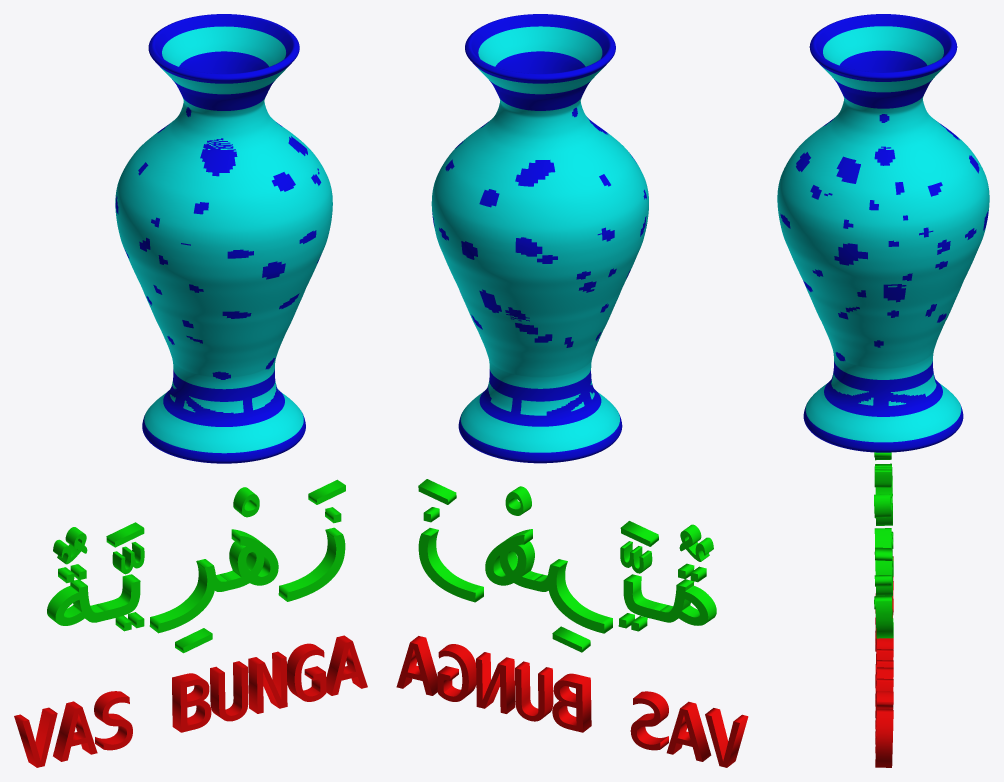
Rendered from vase.fbx.
3 renders of one model, left to right at view 1: azimuth 30°, elevation 25°; view 2: azimuth 150°, elevation 25°; view 3: azimuth 270°, elevation 25°, orthographic. The views are drawn at different scales.
Visible parts, largest first — view 1: Circle, Teks.006, Text, Teks.005, Teks.003, Teks.001; view 2: Circle, Teks.006, Text, Teks.005, Teks.003, Teks.001; view 3: Circle, Teks.006, Text, Teks.001, Teks.003.
Part boxes in pixels (bbox=[...]): Circle: bbox=[115, 14, 332, 463]; Teks.006: bbox=[14, 635, 367, 767]; Text: bbox=[47, 507, 345, 633]; Teks.005: bbox=[53, 527, 87, 564]; Teks.003: bbox=[112, 542, 144, 574]; Teks.001: bbox=[233, 487, 259, 517]; Circle: bbox=[431, 14, 648, 463]; Teks.006: bbox=[396, 636, 748, 767]; Text: bbox=[418, 507, 716, 633]; Teks.005: bbox=[679, 524, 713, 561]; Teks.003: bbox=[620, 541, 652, 573]; Teks.001: bbox=[505, 486, 531, 515]; Circle: bbox=[777, 14, 989, 452]; Teks.006: bbox=[875, 556, 893, 767]; Text: bbox=[874, 452, 893, 638]; Teks.001: bbox=[874, 494, 891, 517]; Teks.003: bbox=[874, 465, 891, 487].
Bounding box in the file's own units: 463 × 868 × 253.
